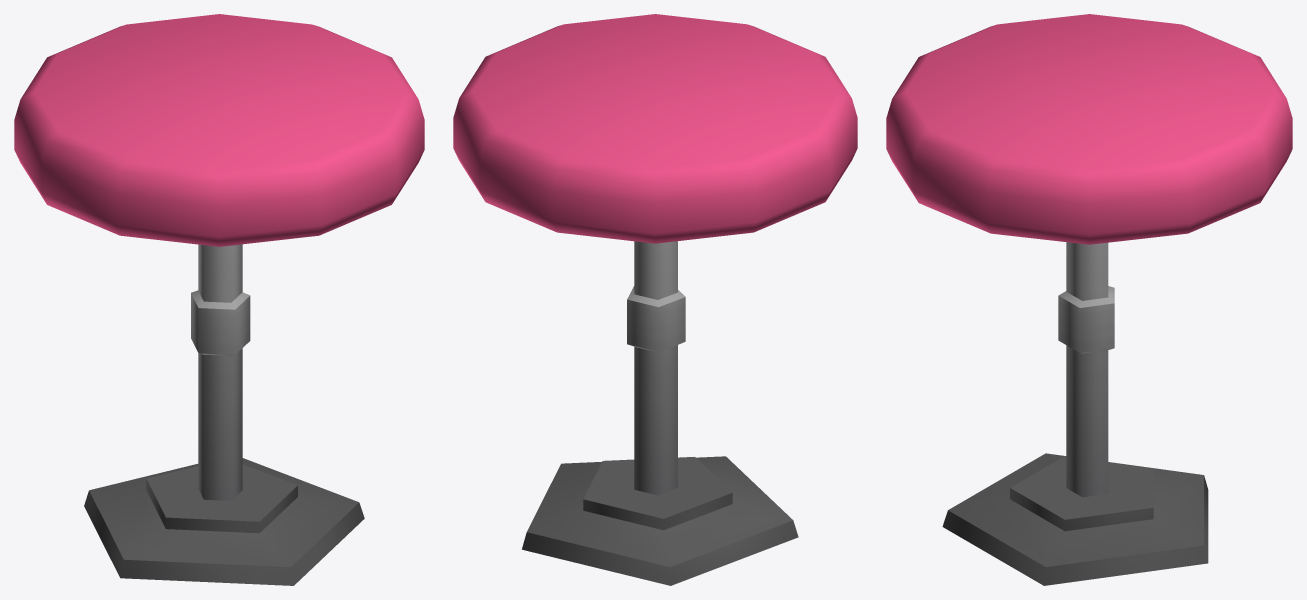
Rendered from Chair_3_E.fbx.
The picture shows the model from 3 angles, left to right: view 1: azimuth 30°, elevation 25°; view 2: azimuth 150°, elevation 25°; view 3: azimuth 270°, elevation 25°; orthographic projection.
Parts seen in each view (by area): view 1: Chair_3_E; view 2: Chair_3_E; view 3: Chair_3_E.
Part boxes in pixels (x1,y1,x2,y2): Chair_3_E: [14, 14, 424, 585]; Chair_3_E: [453, 14, 857, 585]; Chair_3_E: [886, 14, 1292, 585].
Bounding box in the file's own units: 50.02 × 59.1 × 50.04.
